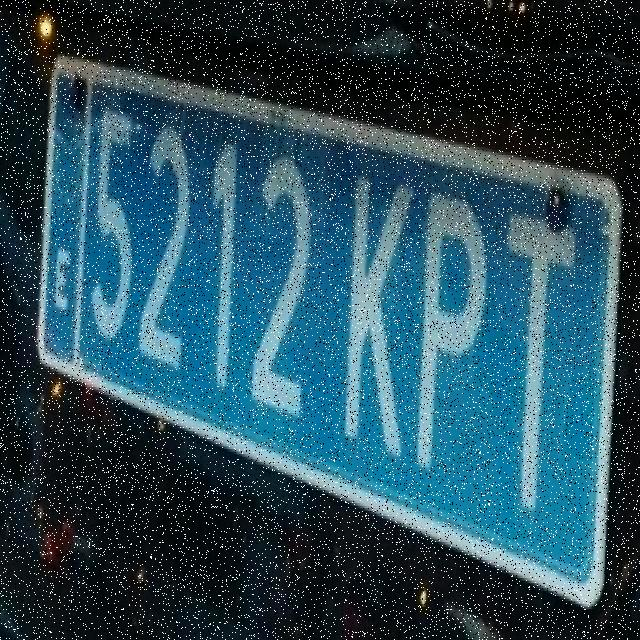licenseplate: (35, 48, 624, 610)
